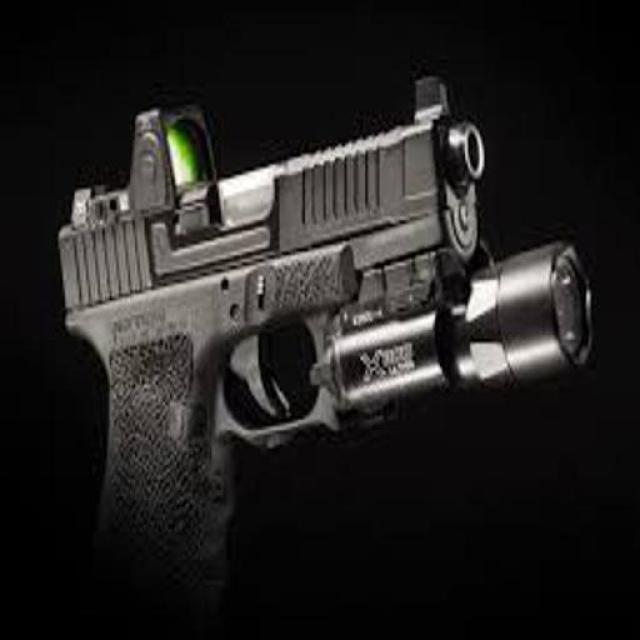pistol: (57, 66, 595, 632)
